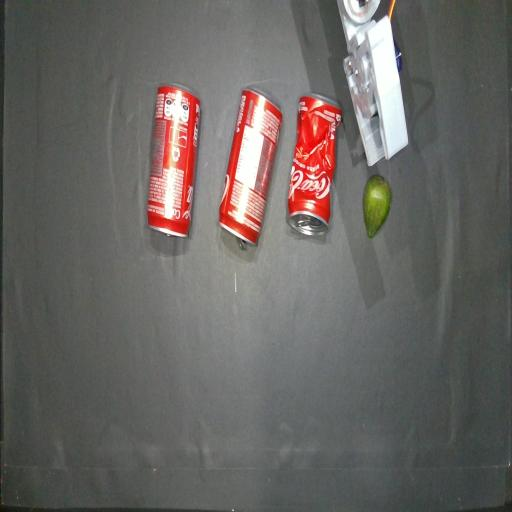higo: (363, 174, 391, 238)
lata: (219, 87, 282, 249), (147, 84, 201, 237)
lata_defectuoso: (287, 94, 342, 235)
